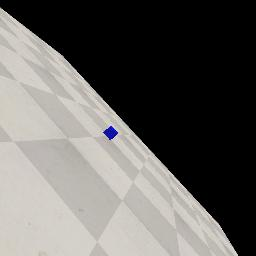box: (103, 126, 118, 140)
